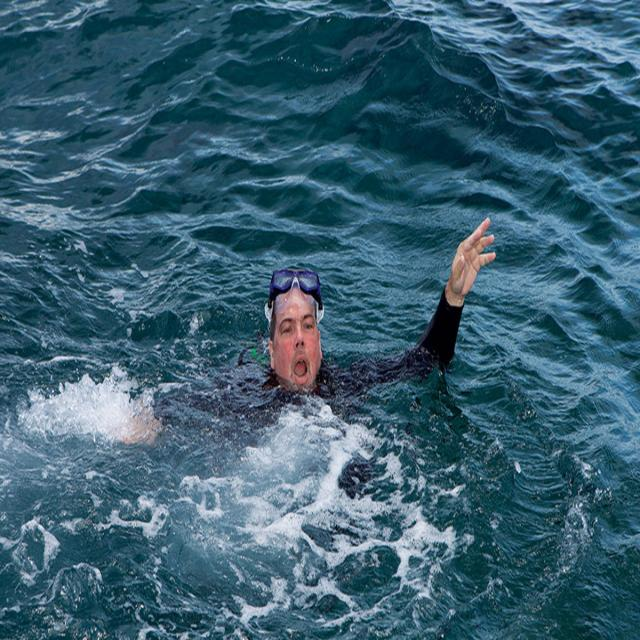drowning: (132, 154, 525, 501)
